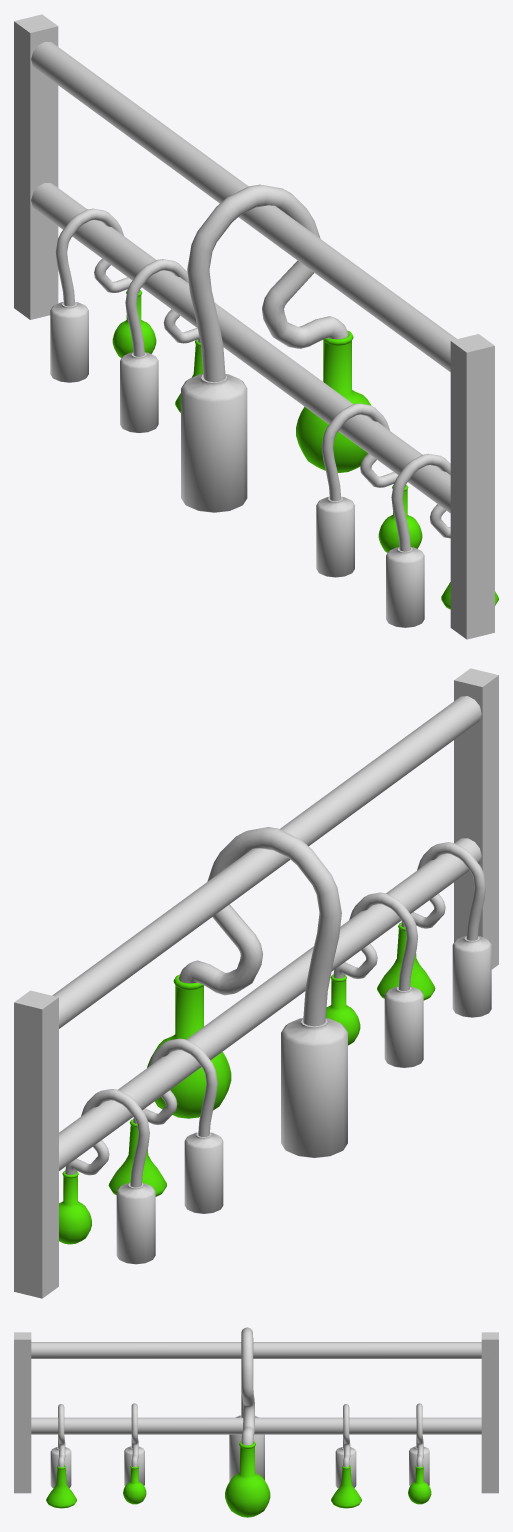
The model's file is rek voor talb tablee.fbx.
3 views of the same model, one above another, from view 1: azimuth 30°, elevation 25°; view 2: azimuth 150°, elevation 25°; view 3: azimuth 270°, elevation 25° (orthographic). The views are drawn at different scales.
Visible parts, largest first — view 1: Cylinder.005; view 2: Cylinder.005; view 3: Cylinder.005.
Part boxes in pixels (x1=…): Cylinder.005: x1=14, y1=14, x2=498, y2=639; Cylinder.005: x1=14, y1=668, x2=498, y2=1298; Cylinder.005: x1=14, y1=1327, x2=498, y2=1517.
Bounding box in the file's own units: 0.5038 × 0.7735 × 2.08.
